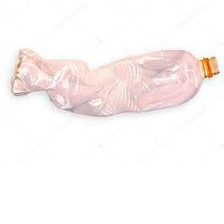bottle: (3, 36, 223, 122)
